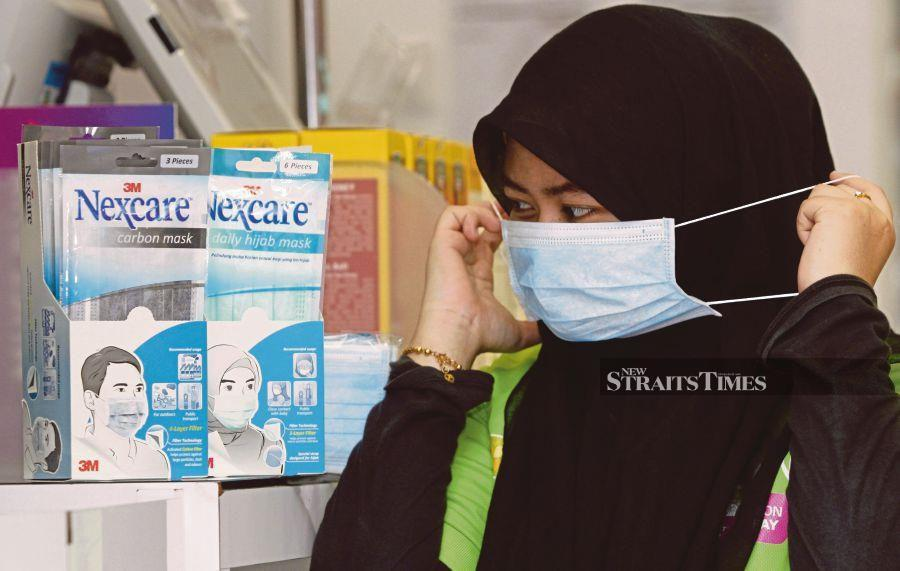Wearing Mask: (440, 2, 900, 399)
